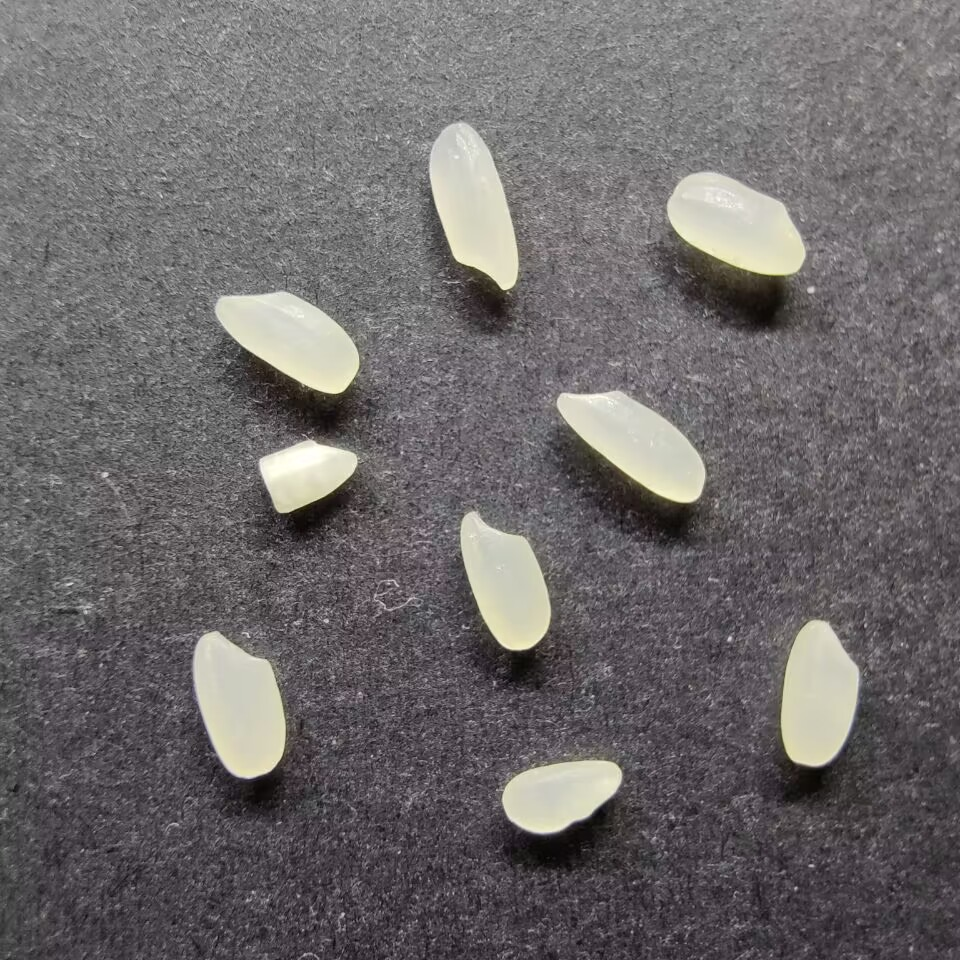broken: (258, 438, 362, 514)
rice: (553, 387, 707, 503), (426, 122, 521, 291), (213, 291, 365, 396), (665, 170, 806, 276), (190, 630, 288, 778), (459, 509, 553, 654), (778, 617, 861, 767), (501, 757, 622, 837)
